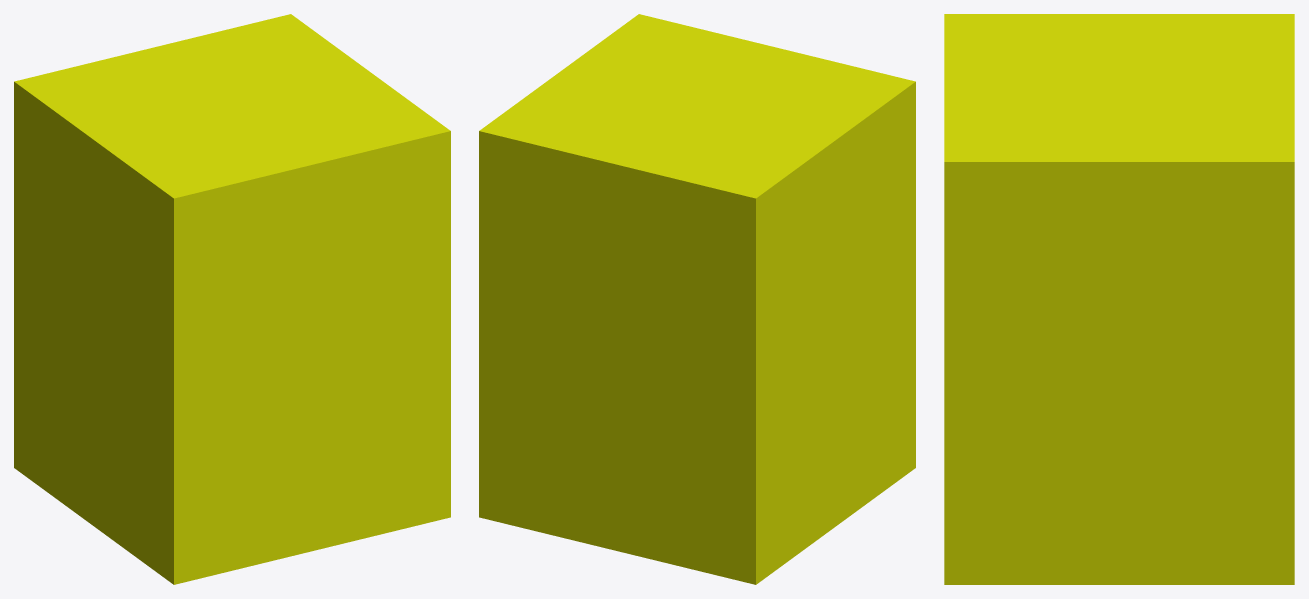
File: structures.glb
3 renders of one model, left to right at view 1: azimuth 30°, elevation 25°; view 2: azimuth 150°, elevation 25°; view 3: azimuth 270°, elevation 25°, orthographic. The views are drawn at different scales.
Visible parts, largest first — view 1: Cube.097, Cube.079, Cube.084, Cube.102, Cube.096, Cube.099, Cube.092, Cube.094, Cube.078, Cube.100, Cube.081, Cube.082 (+12 smaller); view 2: Cube.094, Cube.076, Cube.087, Cube.105, Cube.093, Cube.095, Cube.092, Cube.097, Cube.075, Cube.104, Cube.077, Cube.086 (+12 smaller); view 3: Cube.091, Cube.095, Cube.099, Cube.082, Cube.086, Cube.090, Cube.100, Cube.104, Cube.108, Cube.073, Cube.077, Cube.081 (+6 smaller).
Boxes of the visible parts, x1,y1,x2,y2 form: Cube.097: (120,137,266,294); Cube.079: (120,449,266,584); Cube.084: (120,353,266,488); Cube.102: (120,256,266,391); Cube.096: (213,114,358,272); Cube.099: (305,92,450,249); Cube.092: (67,98,212,255); Cube.094: (14,59,158,216); Cube.078: (266,443,358,562); Cube.100: (358,227,450,346); Cube.081: (358,421,450,539); Cube.082: (358,324,450,442); Cube.094: (663,137,809,294); Cube.076: (663,449,809,584); Cube.087: (663,353,809,488); Cube.105: (663,256,809,391); Cube.093: (571,114,716,272); Cube.095: (479,92,624,249); Cube.092: (717,98,862,255); Cube.097: (771,59,915,216); Cube.075: (571,443,663,562); Cube.104: (479,227,571,346); Cube.077: (479,421,571,539); Cube.086: (479,324,571,442); Cube.091: (1061,112,1177,267); Cube.095: (1178,112,1294,267); Cube.099: (944,112,1060,267); Cube.082: (944,373,1060,479); Cube.086: (1178,373,1294,479); Cube.090: (1061,373,1177,479); Cube.100: (944,267,1060,373); Cube.104: (1178,267,1294,373); Cube.108: (1061,267,1177,373); Cube.073: (1061,479,1177,584); Cube.077: (1178,479,1294,584); Cube.081: (944,479,1060,584).
Size of the model in its own units: 3 by 4 by 3.
